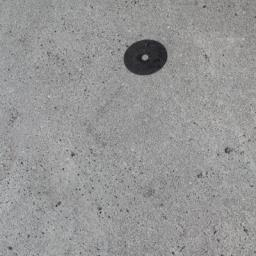FOD: (122, 37, 172, 78)
